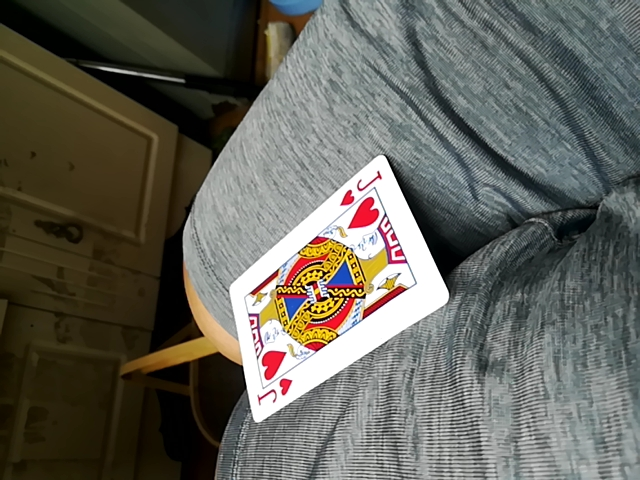hx j: (221, 154, 446, 420)
